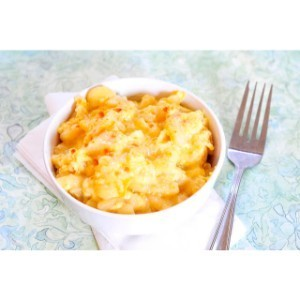cheese_brain food: (58, 113, 207, 186)
